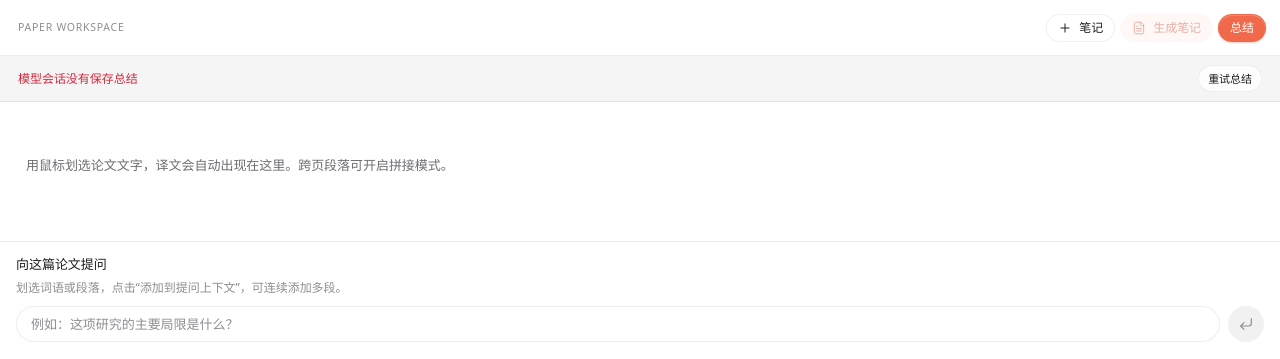
paragraph translation cards › shows summary startup and failed-task feedback beside the summary action
Later steps or results of the test are not shown.
Expected: the message with class "reader-summary-status" shows "模型会话没有保存总结", [18, 70, 138, 86]
Click the button "重试总结" at {"x": 1230, "y": 78}, box [1198, 65, 1262, 92]
Click the button "总结" at {"x": 1242, "y": 28}, box [1218, 14, 1266, 42]
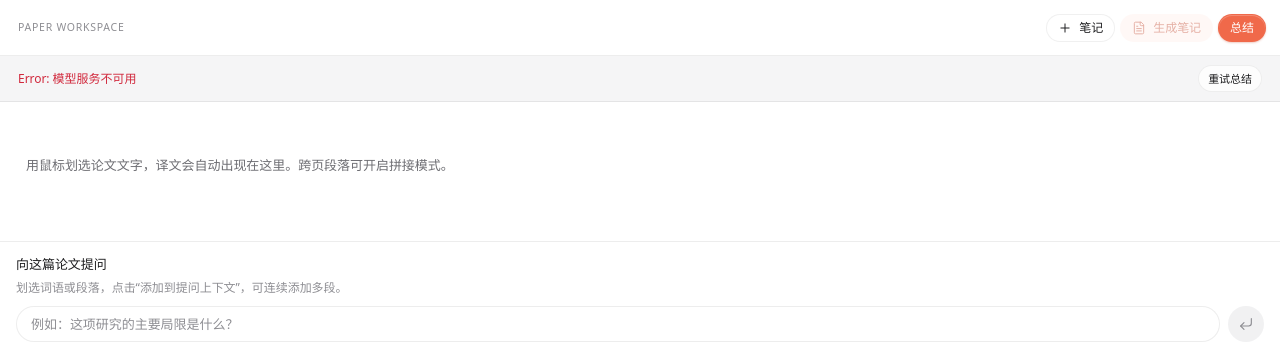
Expected: the message with class "reader-summary-status" shows "模型服务不可用", [18, 70, 136, 86]
